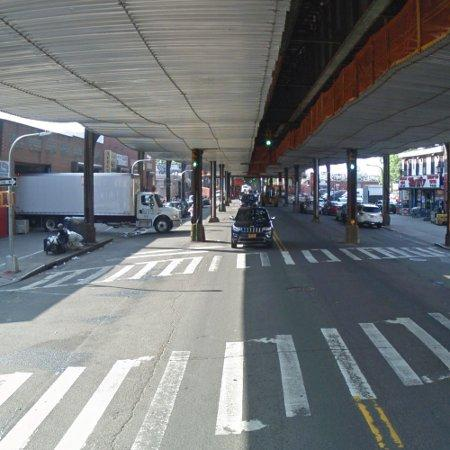crosswalks: (8, 245, 448, 290)
